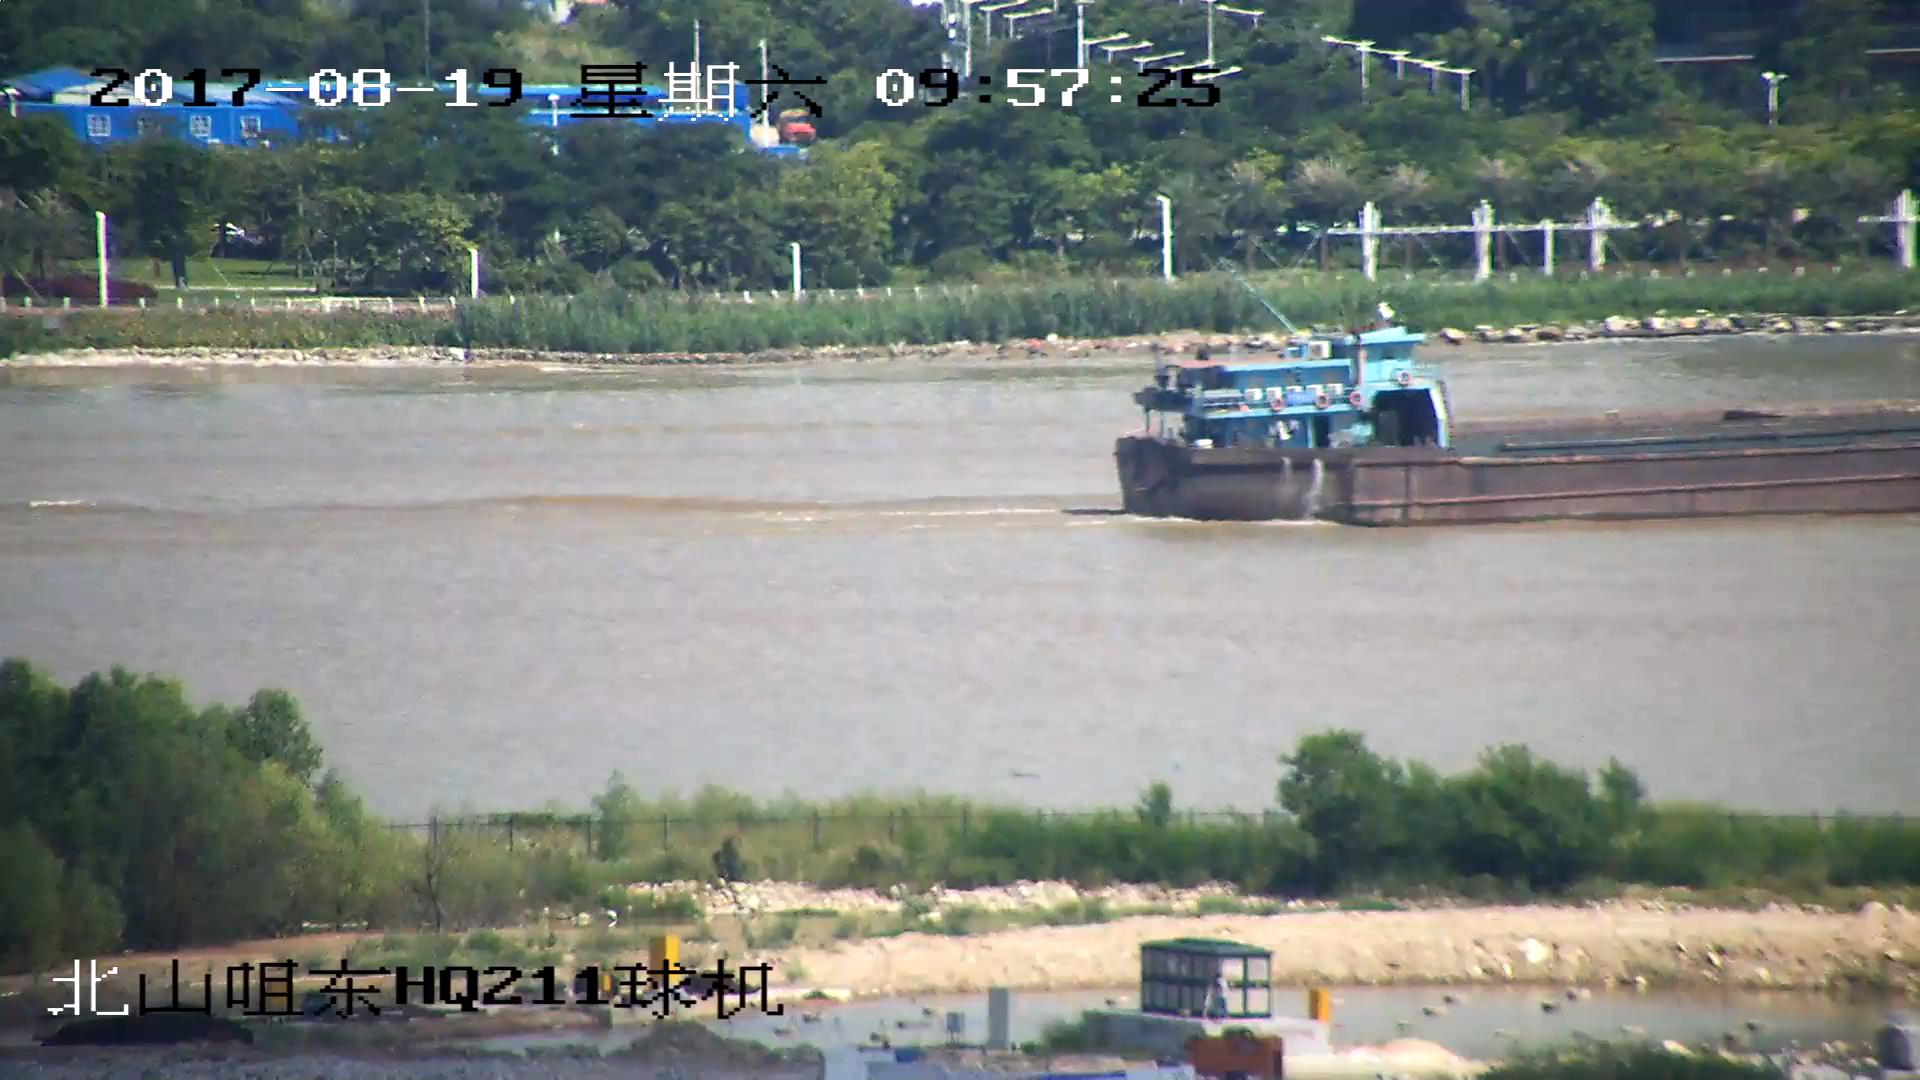bulk cargo carrier: (1109, 311, 1920, 524)
